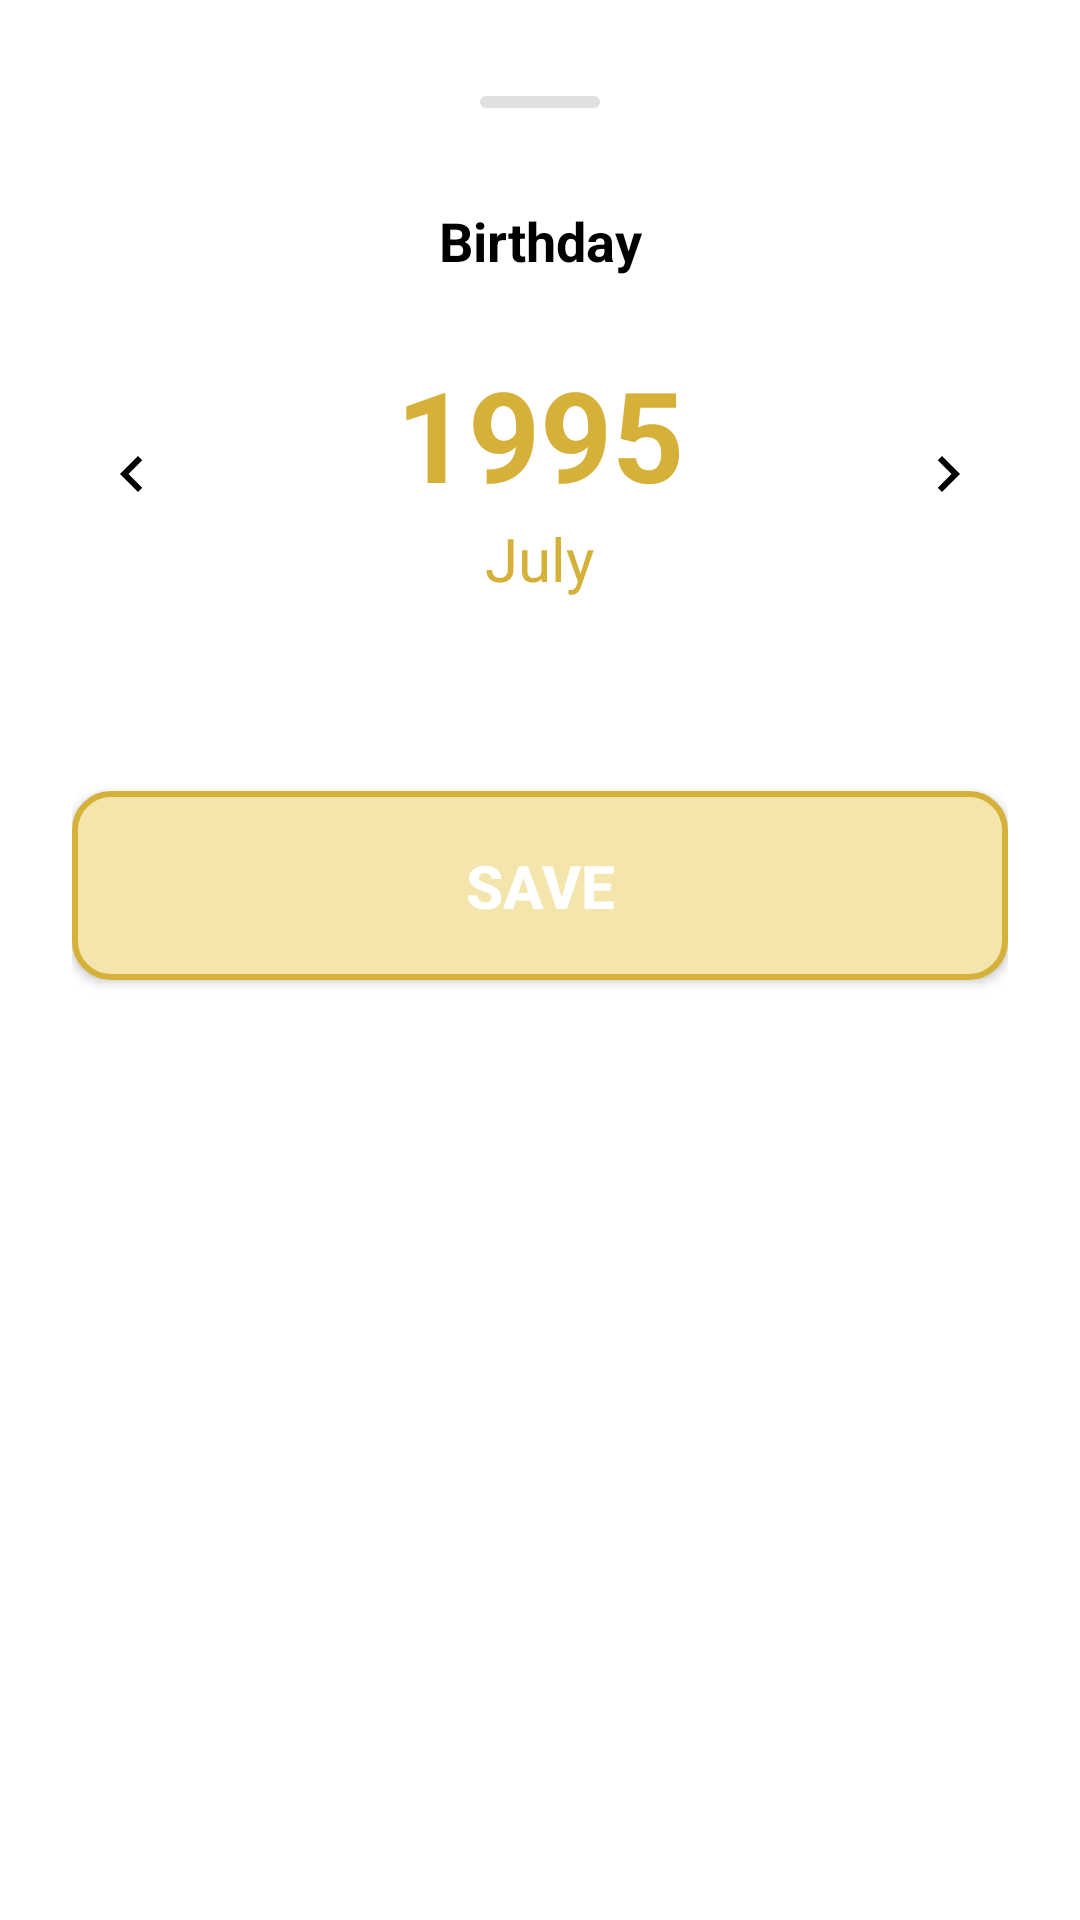

Named icons in this screenshot (1080w x 1920h) and their centers, [x,y]:
Next: [949,474]
Previous: [131,474]
